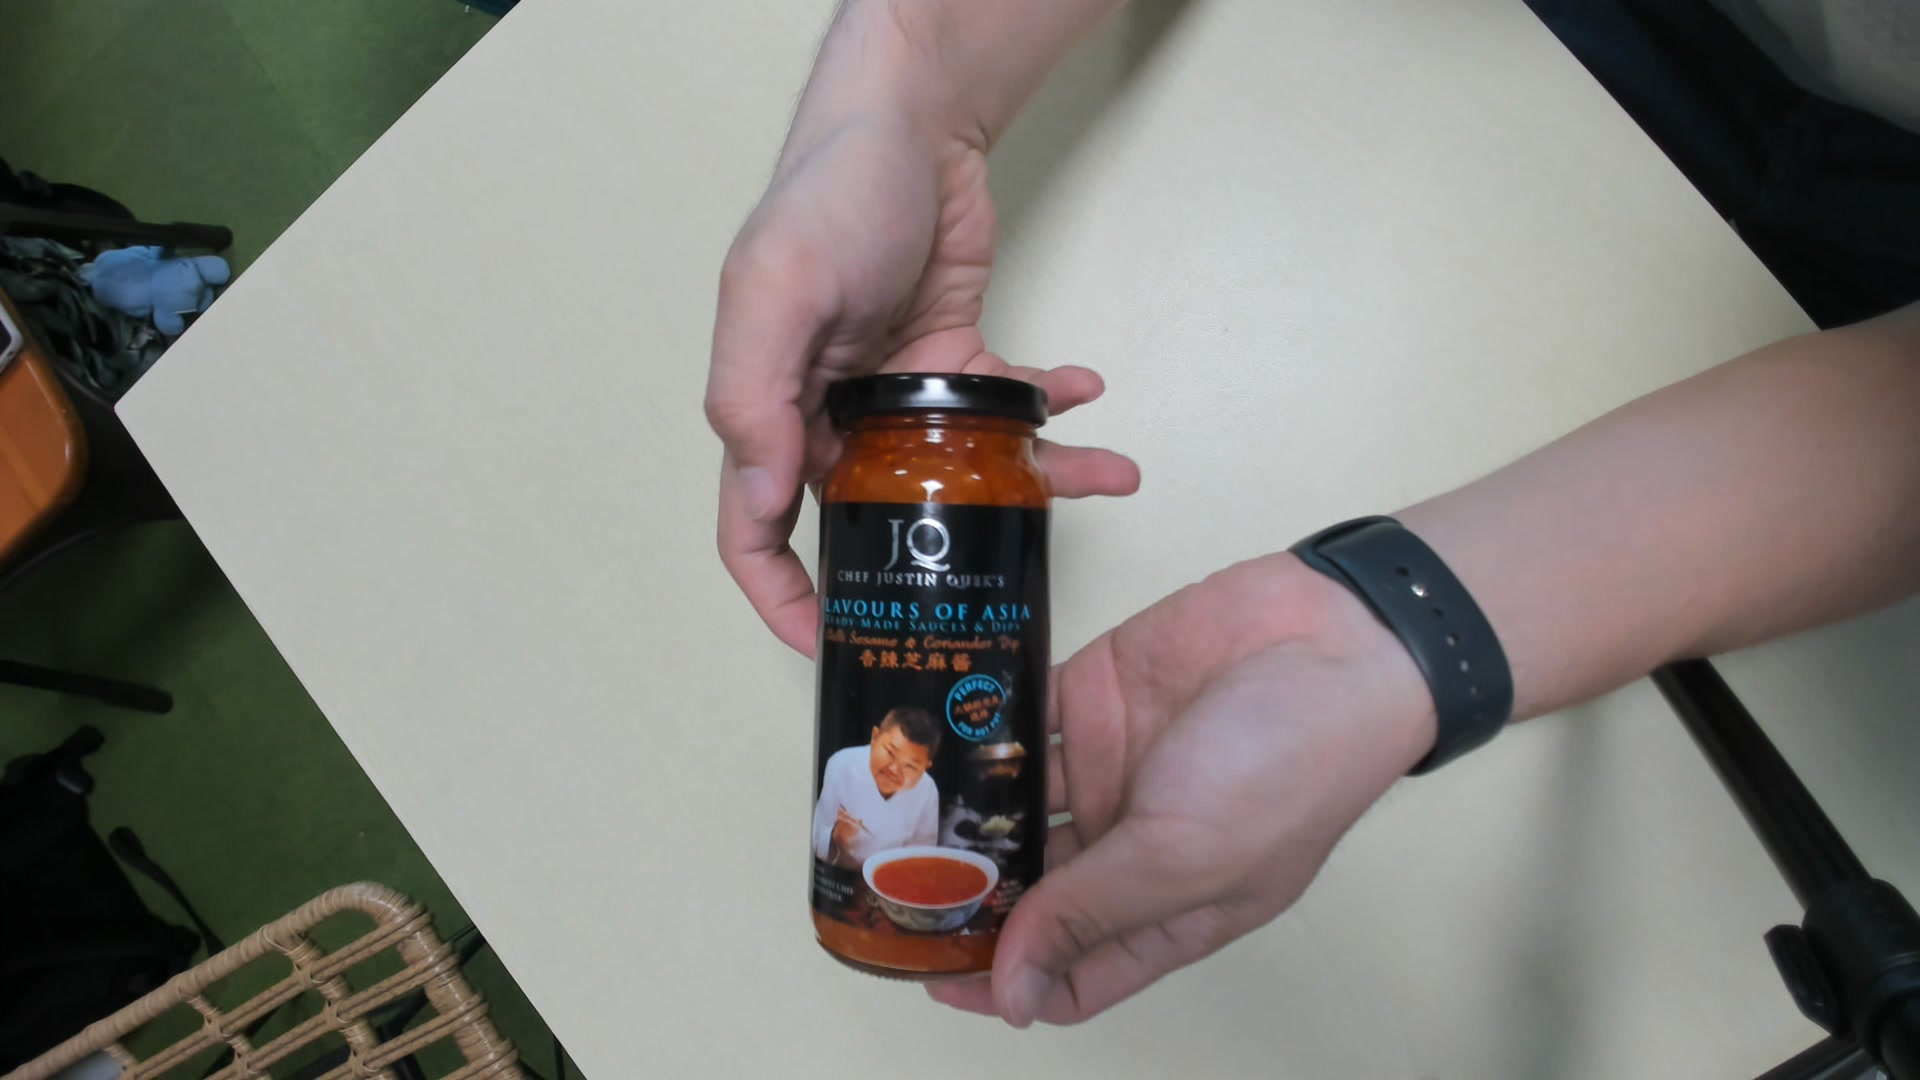OtherSauceDressing_300-399g_NonHalal_NonHealthy: (804, 367, 1055, 975)
